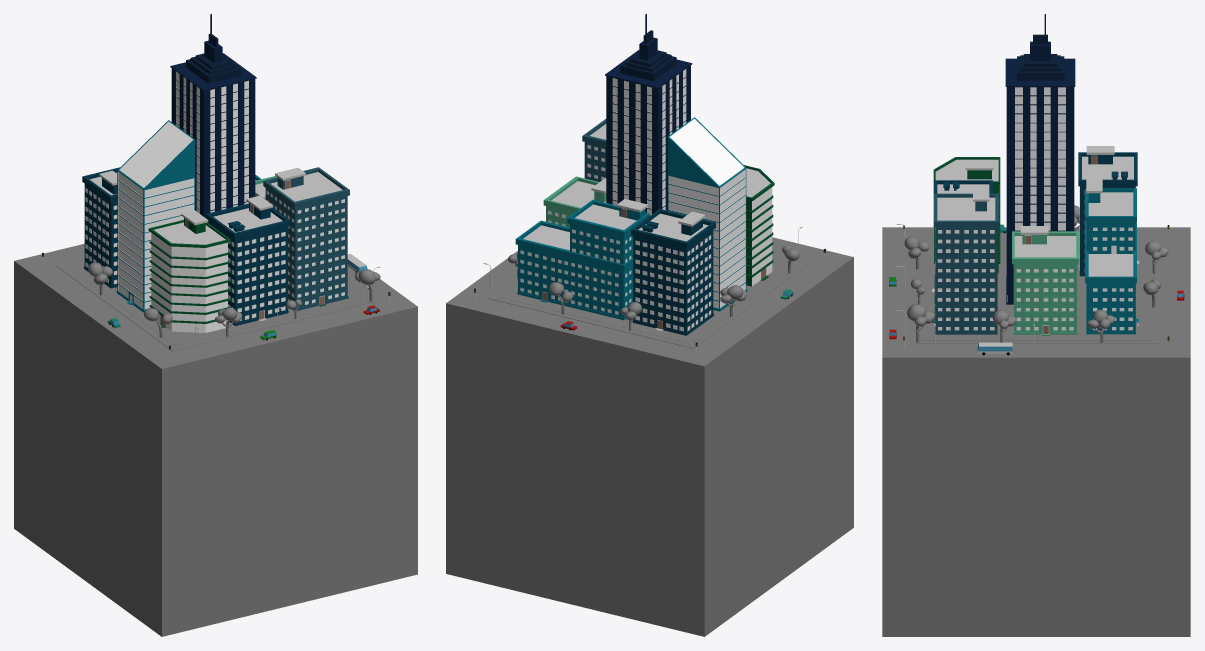
File: CybeCity-Buildings.FBX
The picture shows the model from 3 angles, left to right: view 1: azimuth 30°, elevation 25°; view 2: azimuth 150°, elevation 25°; view 3: azimuth 270°, elevation 25°; orthographic projection. The views are drawn at different scales.
Visible parts, largest first — view 1: Box3742, Box4486, Box4459, Box4351, Box3804, Box4324, Box4405, Box4513, Box3743; view 2: Box3742, Box4486, Box4432, Box4459, Box4405, Box4351, Box4513, Box3743, Box4378, Box3804; view 3: Box3742, Box4486, Box3804, Box4432, Box4378, Box4513, Box4405, Box3743, Box4351, Box4324, Box3818, Box3825 (+3 smaller).
Part boxes in pixels (x1,y1,x2,y2): Box3742: (14,243,417,636); Box4486: (170,14,256,222); Box4459: (116,120,195,312); Box4351: (148,210,230,332); Box3804: (263,167,349,310); Box4324: (206,195,290,325); Box4405: (82,167,119,288); Box4513: (66,261,364,346); Box3743: (55,258,375,351); Box3742: (446,237,853,636); Box4486: (605,14,692,215); Box4432: (515,199,649,320); Box4459: (668,117,747,311); Box4405: (631,209,715,335); Box4351: (744,165,774,286); Box4513: (499,256,800,343); Box3743: (488,252,811,348); Box4378: (543,176,606,227); Box3804: (582,119,606,181); Box3742: (882,227,1190,636); Box4486: (1005,14,1075,304); Box3804: (933,187,998,334); Box4432: (1085,179,1136,334); Box4378: (1012,226,1078,334); Box4513: (922,243,1150,340); Box4405: (1078,146,1137,276); Box3743: (914,240,1159,343); Box4351: (933,157,1000,273); Box4324: (933,180,992,303); Box3818: (954,229,997,321); Box3825: (981,229,997,321).
Bounding box in the file's own units: 100 × 199 × 100.
